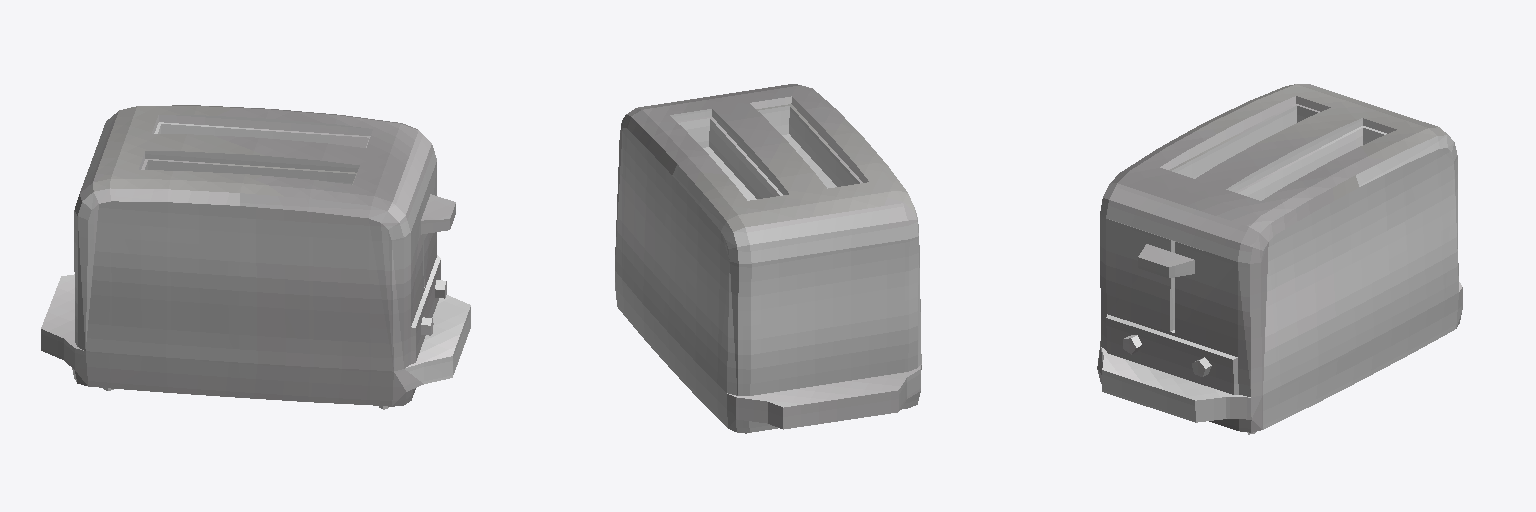
The picture shows the model from 3 angles: view 1: azimuth 30°, elevation 25°; view 2: azimuth 150°, elevation 25°; view 3: azimuth 270°, elevation 25°; orthographic projection.
Visible parts, largest first — view 1: Mesh5; view 2: Mesh5; view 3: Mesh5.
Boxes of the visible parts, x1=… form: Mesh5: x1=41, y1=105, x2=470, y2=409; Mesh5: x1=615, y1=84, x2=921, y2=433; Mesh5: x1=1097, y1=84, x2=1462, y2=434.
Size of the model in its own units: 0.4335 by 0.2662 by 0.3967.
1 materials, 1 textured.